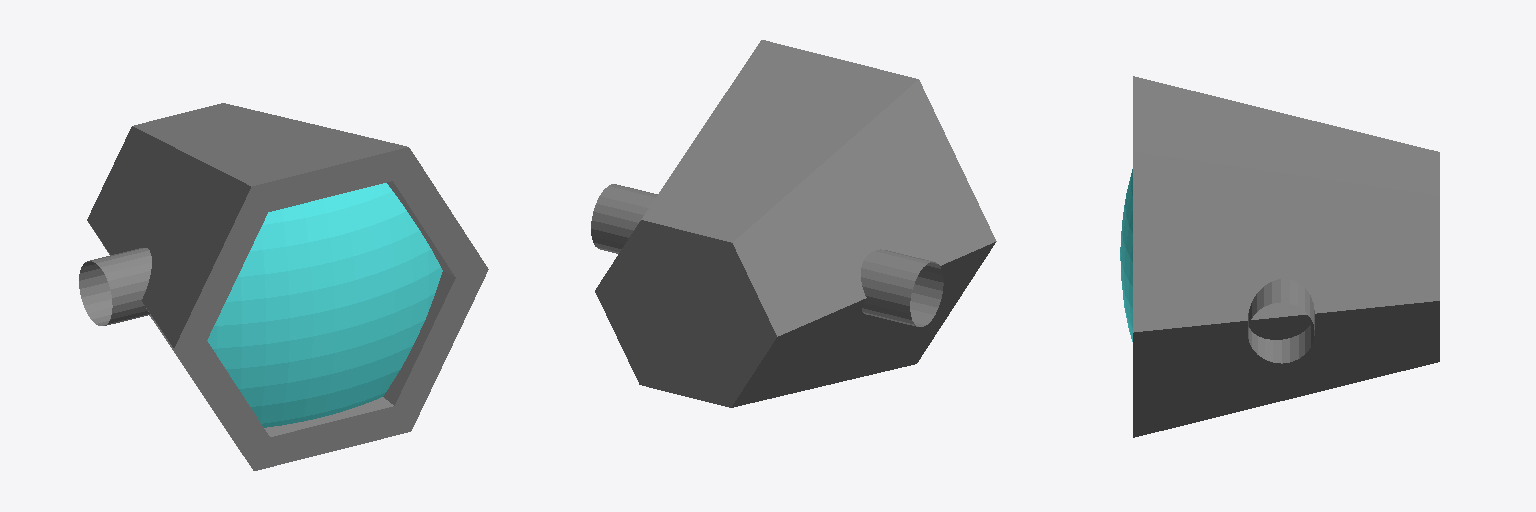
The model's file is MovingHead3DX_Head.obj.
3 renders of one model, left to right at view 1: azimuth 30°, elevation 25°; view 2: azimuth 150°, elevation 25°; view 3: azimuth 270°, elevation 25°, orthographic.
Visible parts, largest first — view 1: Mesh1_Group2_Group1_Model, Mesh9_Group5_Model, Mesh3_Group3_Model; view 2: Mesh1_Group2_Group1_Model, Mesh3_Group3_Model, Mesh6_Group4_Model; view 3: Mesh1_Group2_Group1_Model, Mesh6_Group4_Model, Mesh9_Group5_Model.
Part boxes in pixels (left/top/right/bottom): Mesh1_Group2_Group1_Model: left=87, top=103, right=488, bottom=470; Mesh9_Group5_Model: left=207, top=183, right=442, bottom=427; Mesh3_Group3_Model: left=79, top=248, right=151, bottom=325; Mesh1_Group2_Group1_Model: left=595, top=40, right=996, bottom=407; Mesh3_Group3_Model: left=861, top=249, right=943, bottom=326; Mesh6_Group4_Model: left=591, top=184, right=657, bottom=253; Mesh1_Group2_Group1_Model: left=1133, top=76, right=1439, bottom=437; Mesh6_Group4_Model: left=1248, top=279, right=1314, bottom=363; Mesh9_Group5_Model: left=1120, top=169, right=1132, bottom=341.
Bounding box in the file's own units: 30.67 × 26.32 × 26.58.